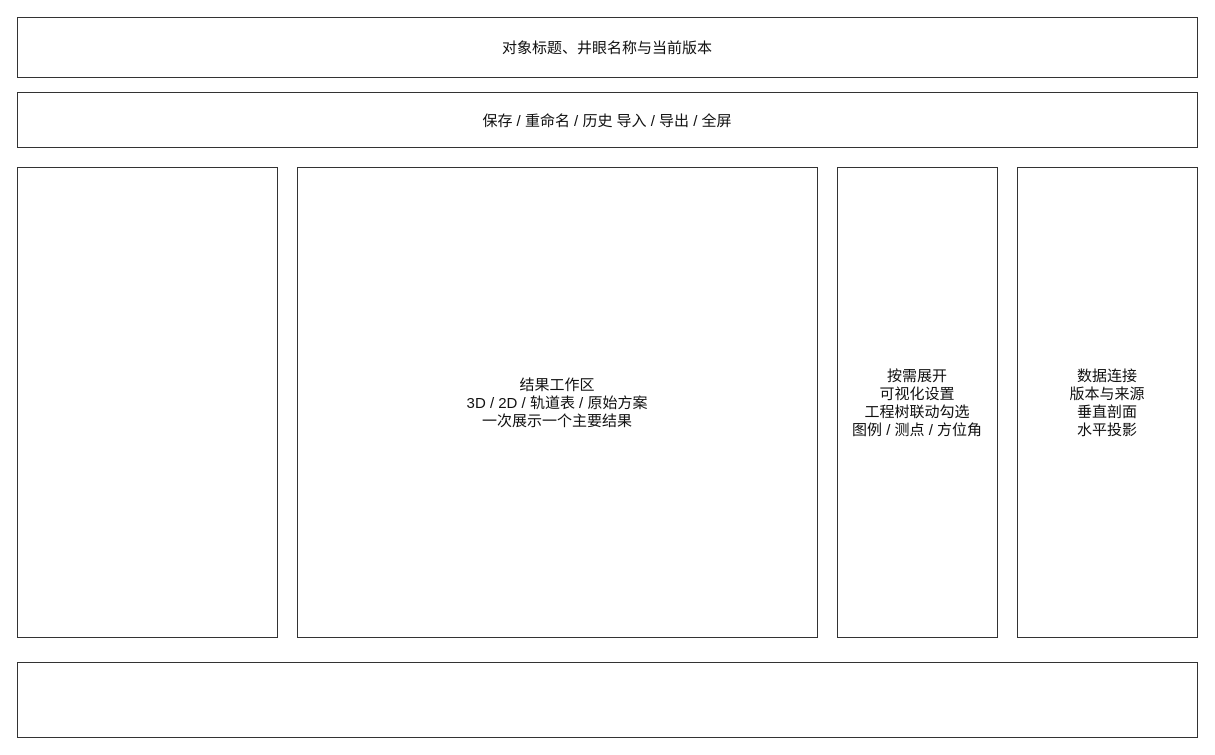
This 1215x755 diagram has some shape labels left out. The shapes that lost their labels are listed below. From the top down, each one's box as (x1, y1, x2, y2) in pixels, then its label:
(16, 166, 278, 638): 输入与约束 / 结果方案 井眼与版本 目标点 全局或分段约束 求解设置 邻井树形选择
(16, 662, 1198, 738): 防碰规则与约束审查结果（可收起）
